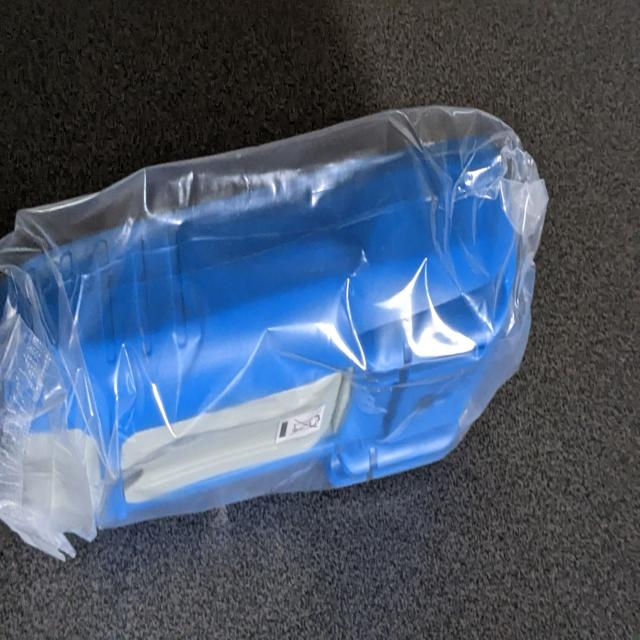Digital Multimeter: (2, 115, 548, 518)
